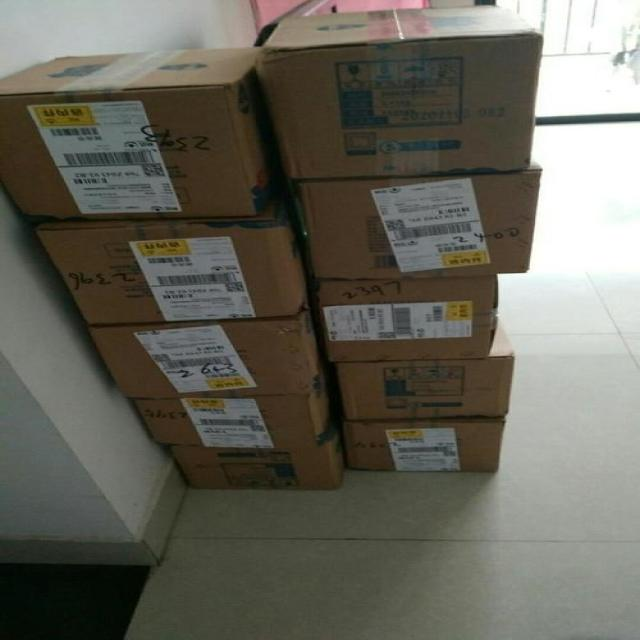box: (253, 4, 547, 180), (0, 46, 278, 222), (28, 174, 310, 327), (287, 160, 543, 280), (87, 309, 320, 400), (332, 318, 516, 420), (134, 363, 335, 449), (312, 274, 499, 362), (168, 424, 348, 490), (343, 419, 507, 472)
